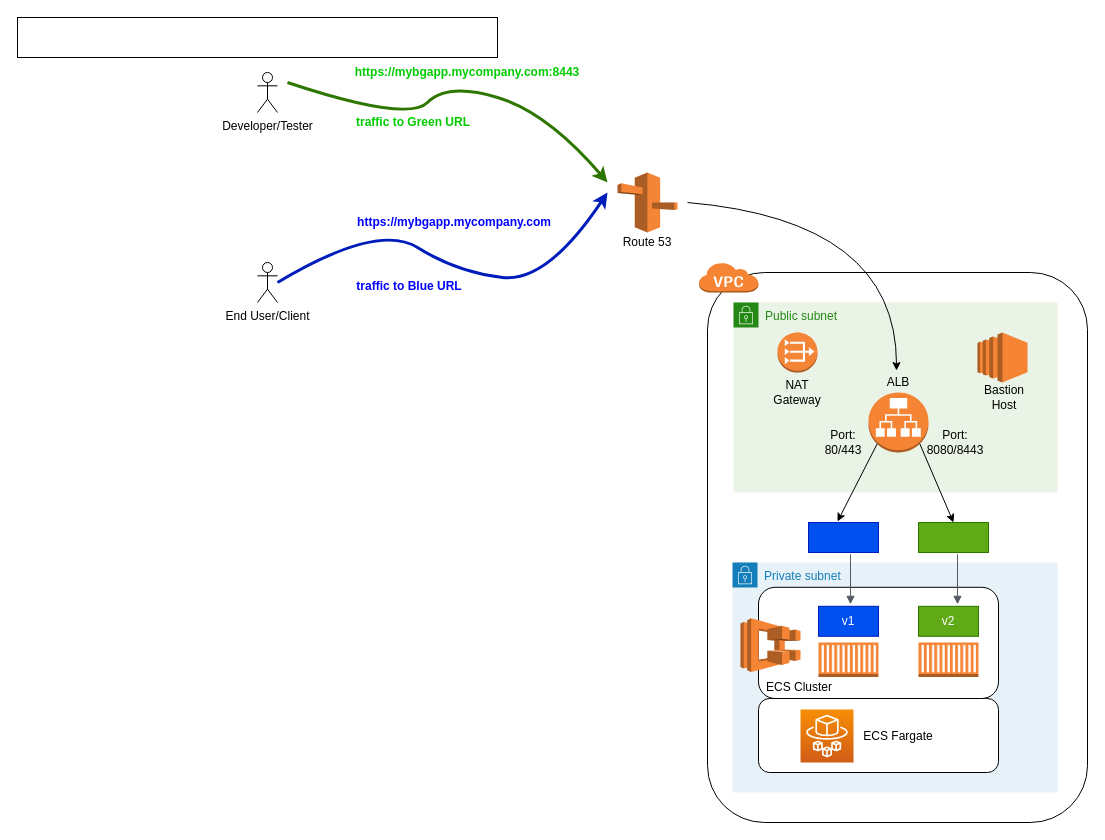
Some shapes in this 1105 by 840 pixel diagram are drawn without their labels. The shapes that lost their labels are listed below. From the top down, each one's centre as x and y in pixels, then its label:
At point 257,37: "Application access traffic to Blue and Green URLs".
At point 843,537: "Blue-TG".
At point 953,537: "Green-TG".
